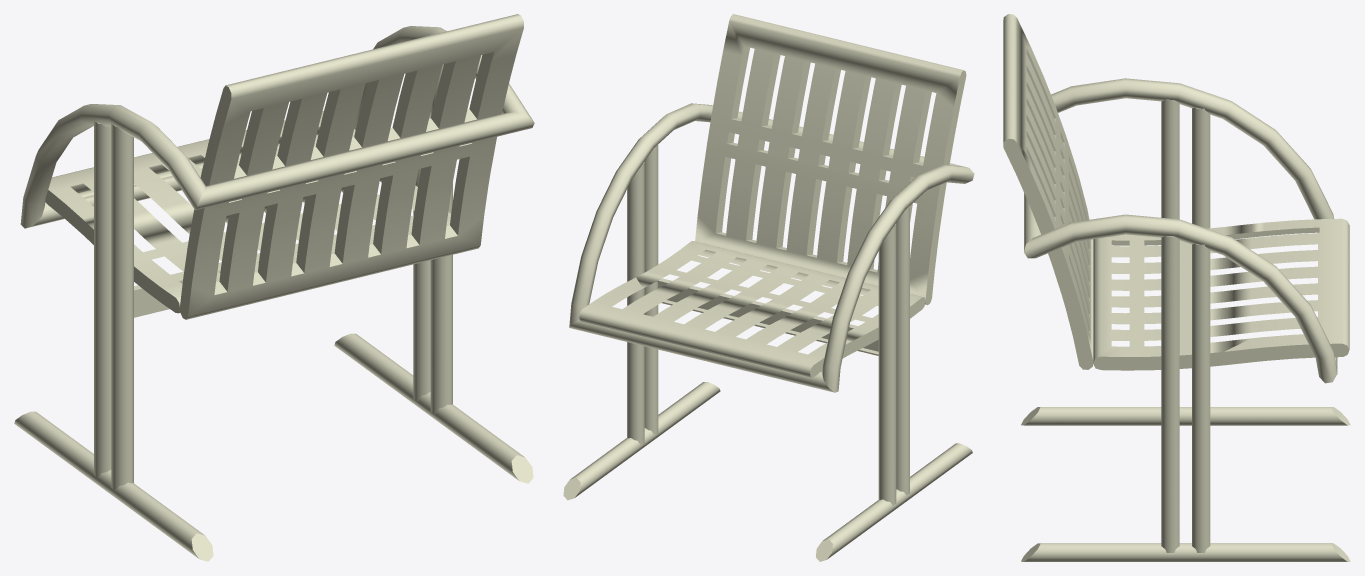
3 renders of one model, left to right at view 1: azimuth 30°, elevation 25°; view 2: azimuth 150°, elevation 25°; view 3: azimuth 270°, elevation 25°, orthographic. The views are drawn at different scales.
Visible parts, largest first — view 1: mesh13_mesh13-geometry, mesh8_mesh8-geometry, mesh10_mesh10-geometry, mesh42_mesh42-geometry, mesh9_mesh9-geometry, mesh37_mesh37-geometry, mesh3_mesh3-geometry, mesh1_mesh1-geometry, mesh5_mesh5-geometry, mesh40_mesh40-geometry; view 2: mesh13_mesh13-geometry, mesh10_mesh10-geometry, mesh9_mesh9-geometry, mesh8_mesh8-geometry, mesh42_mesh42-geometry, mesh3_mesh3-geometry, mesh1_mesh1-geometry, mesh5_mesh5-geometry, mesh40_mesh40-geometry; view 3: mesh10_mesh10-geometry, mesh13_mesh13-geometry, mesh42_mesh42-geometry, mesh8_mesh8-geometry, mesh9_mesh9-geometry, mesh1_mesh1-geometry, mesh3_mesh3-geometry, mesh37_mesh37-geometry.
Part boxes in pixels (x1=…): mesh13_mesh13-geometry: x1=180, y1=14, x2=523, y2=319; mesh8_mesh8-geometry: x1=111, y1=64, x2=452, y2=490; mesh10_mesh10-geometry: x1=45, y1=111, x2=450, y2=313; mesh42_mesh42-geometry: x1=14, y1=333, x2=533, y2=561; mesh9_mesh9-geometry: x1=94, y1=112, x2=430, y2=477; mesh37_mesh37-geometry: x1=195, y1=112, x2=534, y2=210; mesh3_mesh3-geometry: x1=20, y1=104, x2=205, y2=228; mesh1_mesh1-geometry: x1=354, y1=26, x2=533, y2=129; mesh5_mesh5-geometry: x1=26, y1=135, x2=318, y2=228; mesh40_mesh40-geometry: x1=134, y1=252, x2=297, y2=317; mesh13_mesh13-geometry: x1=695, y1=14, x2=966, y2=305; mesh10_mesh10-geometry: x1=579, y1=241, x2=925, y2=377; mesh9_mesh9-geometry: x1=627, y1=162, x2=896, y2=505; mesh8_mesh8-geometry: x1=644, y1=144, x2=909, y2=495; mesh42_mesh42-geometry: x1=563, y1=382, x2=972, y2=561; mesh3_mesh3-geometry: x1=822, y1=164, x2=974, y2=392; mesh1_mesh1-geometry: x1=569, y1=103, x2=712, y2=327; mesh5_mesh5-geometry: x1=569, y1=319, x2=834, y2=392; mesh40_mesh40-geometry: x1=656, y1=278, x2=878, y2=355; mesh10_mesh10-geometry: x1=1093, y1=218, x2=1349, y2=370; mesh13_mesh13-geometry: x1=1003, y1=14, x2=1093, y2=369; mesh42_mesh42-geometry: x1=1021, y1=407, x2=1350, y2=561; mesh8_mesh8-geometry: x1=1161, y1=99, x2=1179, y2=552; mesh9_mesh9-geometry: x1=1192, y1=107, x2=1210, y2=552; mesh1_mesh1-geometry: x1=1024, y1=214, x2=1336, y2=383; mesh3_mesh3-geometry: x1=1051, y1=78, x2=1334, y2=219; mesh37_mesh37-geometry: x1=1024, y1=193, x2=1040, y2=251.
Size of the model in its own units: 0.5111 by 0.6857 by 0.5182.
